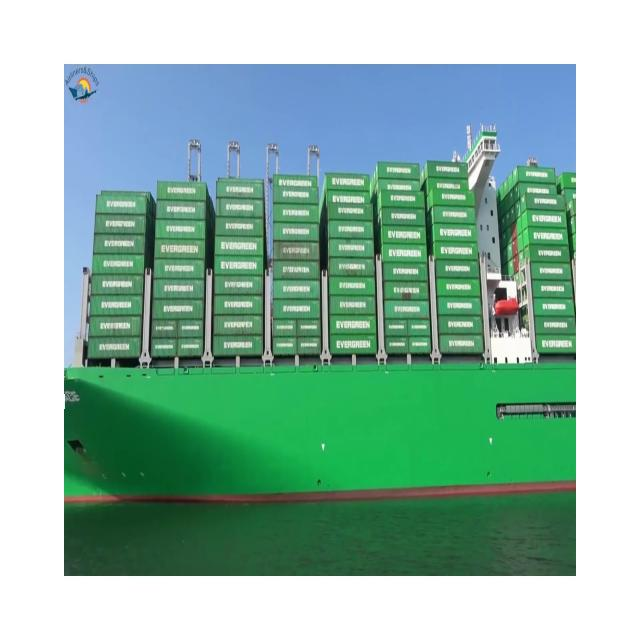OCR: (63, 380, 79, 409)
